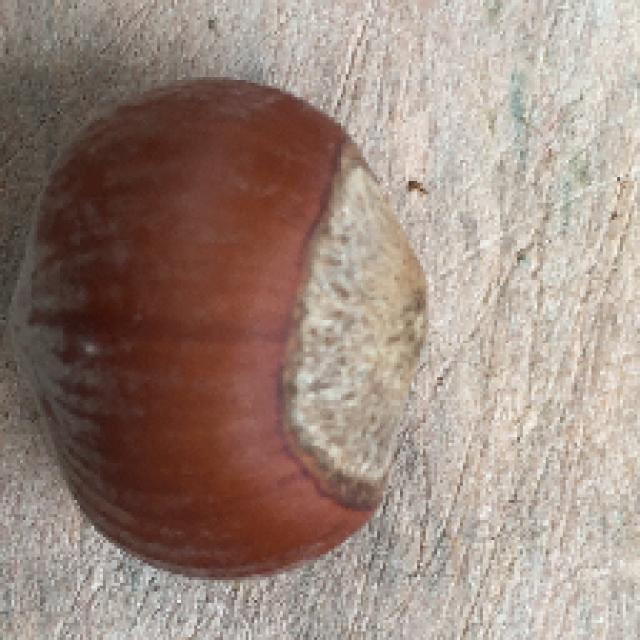hazelnut: (23, 67, 448, 585)
